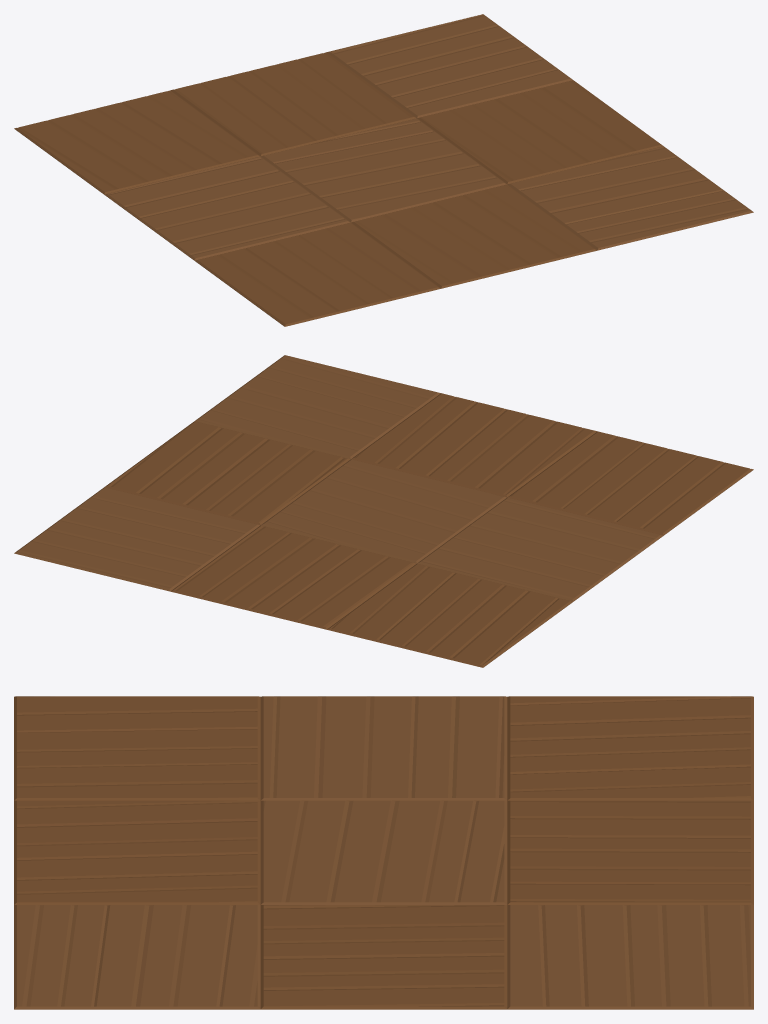
Rendered from Wood_Floor_Module_01_00.glb.
3 renders of one model, top to bottom at view 1: azimuth 30°, elevation 25°; view 2: azimuth 150°, elevation 25°; view 3: azimuth 270°, elevation 25°, orthographic. The views are drawn at different scales.
Visible parts, largest first — view 1: Wood_Floor_Module_01_00; view 2: Wood_Floor_Module_01_00; view 3: Wood_Floor_Module_01_00.
Boxes of the visible parts, x1,y1,x2,y2 form: Wood_Floor_Module_01_00: (14, 14, 753, 326); Wood_Floor_Module_01_00: (14, 355, 753, 667); Wood_Floor_Module_01_00: (14, 696, 753, 1009).
Size of the model in its own units: 4.74 by 0.012 by 4.74.
